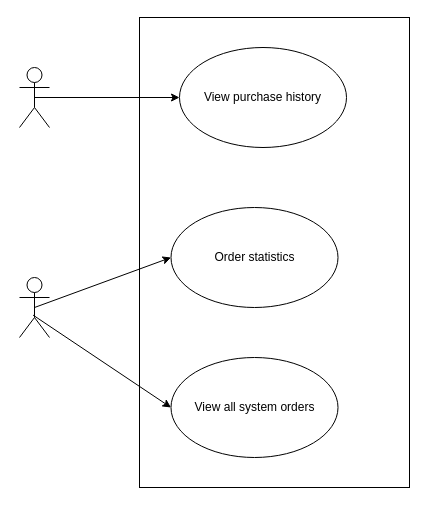
Image size: 427x505. Some labels were removed from this diagram. Here are the shapes that lost their labels. From the top down, the box of each, then its label:
(18, 66, 50, 128): Buyer
(18, 276, 50, 338): Admin
